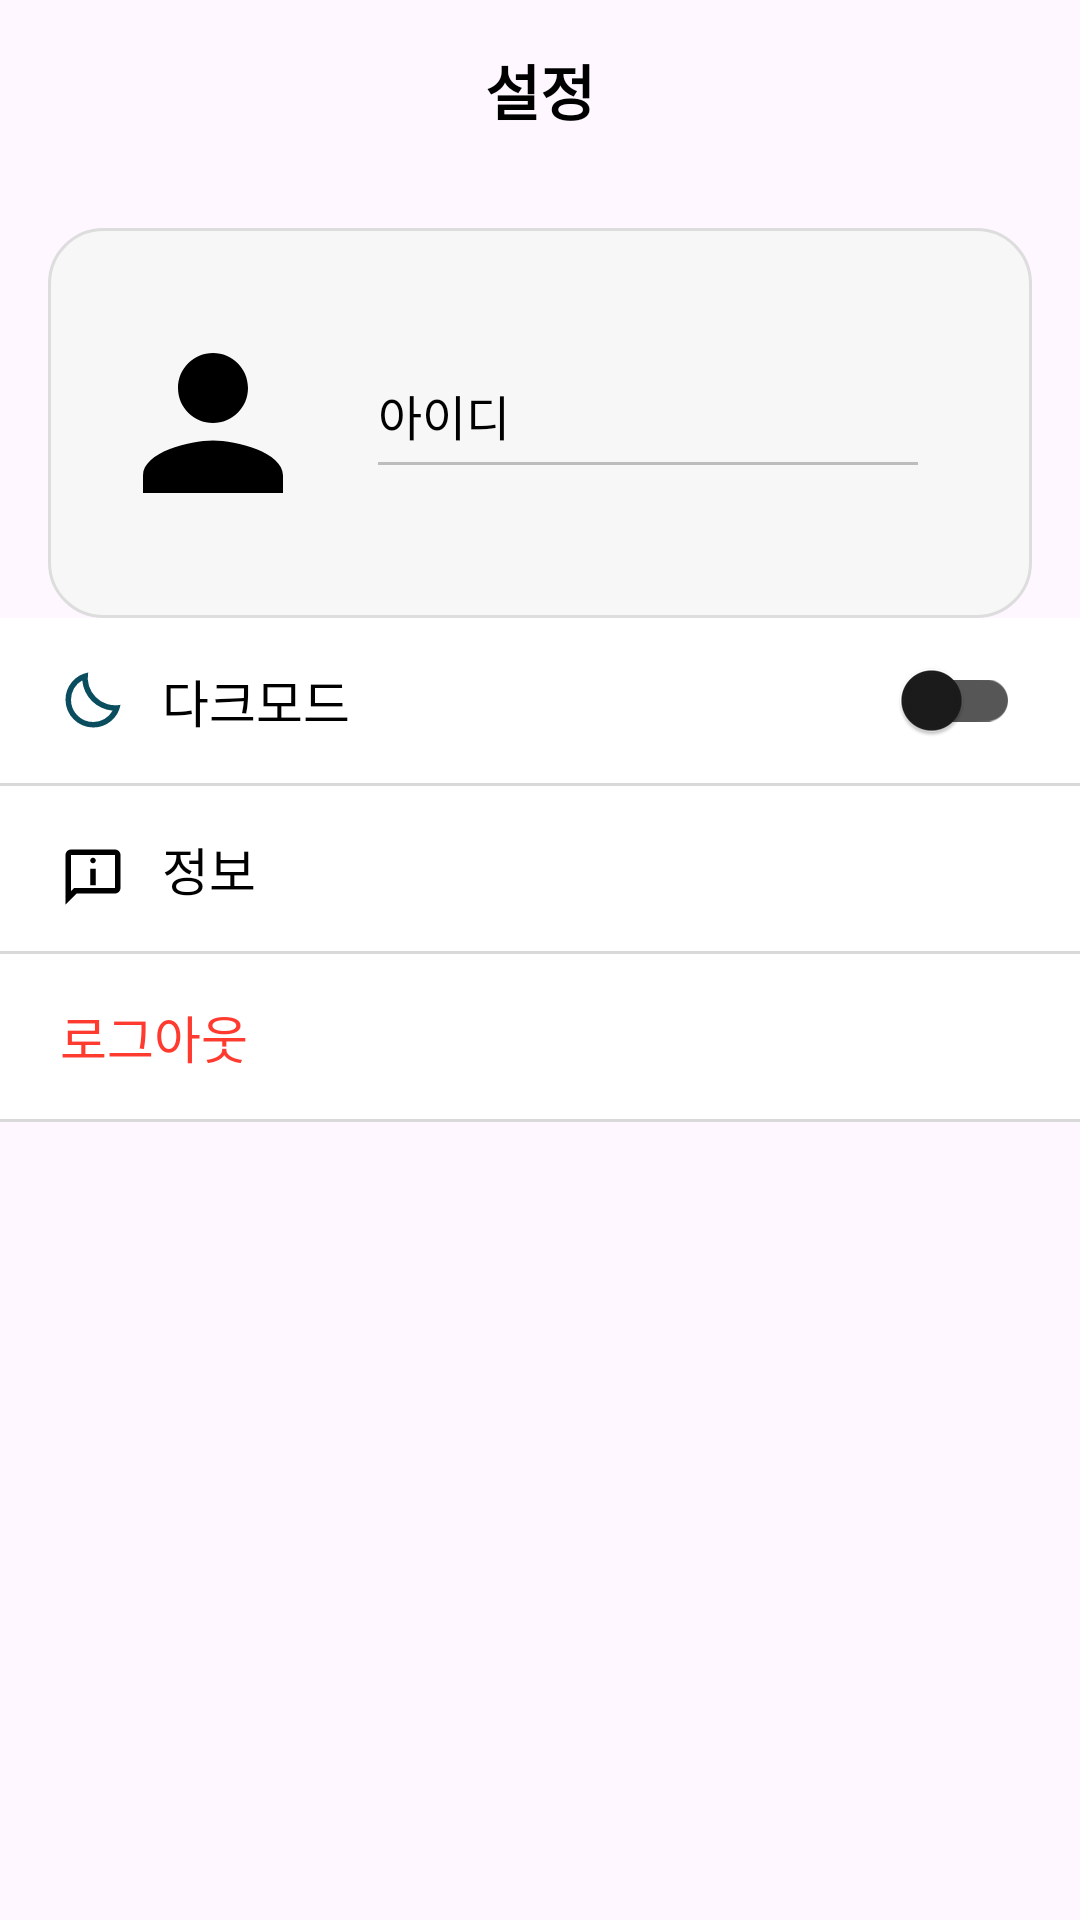

Where icons sit on this 1080 x 1920 app screen, as (x1, y1, x2, y2):
info: (65, 849, 121, 905)
moon: (65, 672, 121, 728)
user: (143, 353, 283, 493)
